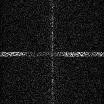wifi: (1, 51, 104, 56)
